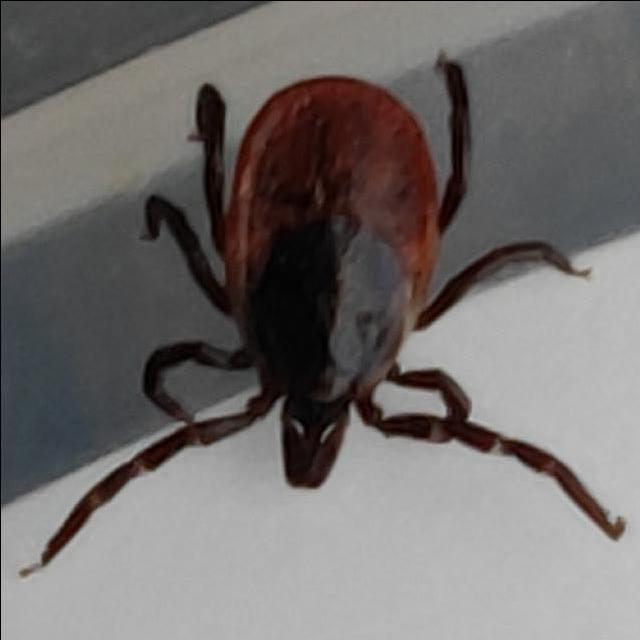Ixodes Ricinus-F: (24, 64, 625, 570)
